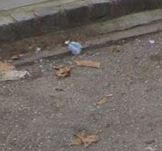trash: (64, 37, 86, 58)
